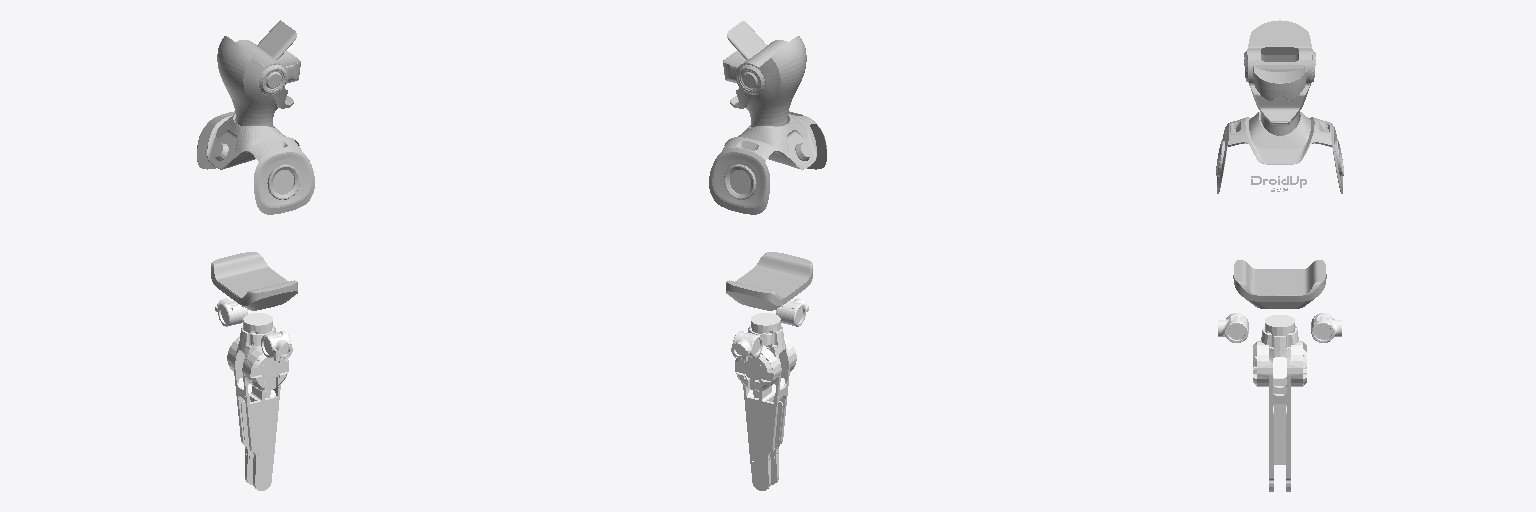
URDF robot description (x2r10):
<?xml version="1.0" encoding="utf-8"?>
<!-- This URDF was automatically created by SolidWorks to URDF Exporter! Originally created by [author] ([email redacted]) 
     Commit Version: 1.6.0-4-g7f85cfe  Build Version: 1.6.7995.38578
     For more information, please see http://wiki.ros.org/sw_urdf_exporter -->
<robot name="x2r10">
  <!-- <mujoco>
    <compiler meshdir="../meshes" discardvisual="false" />
  </mujoco>

  <link name="world"></link>
  <joint name="pelvis_link" type="floating">
    <parent link="world" />
    <child link="pelvis_link" />
  </joint> -->

  <link name="pelvis_link">
    <inertial>
      <origin xyz="0 0 0.001" rpy="0 0 0" />
      <mass value="0.1" />
      <inertia ixx="0.00003053" ixy="0.0000000" ixz="0.00000000" iyy="0.00003053" iyz="0.00000000" izz="0.00000500" />
    </inertial>
    <visual>
      <origin xyz="0 0 0" rpy="0 0 0" />
      <geometry>
        <mesh filename="meshes/pelvis_link.STL" />
      </geometry>
      <material name="">
        <color rgba="1 1 1 1" />
      </material>
    </visual>
    <collision>
      <origin xyz="-0.005 0 0.3" rpy="0 0 0" />
      <geometry>
        <box size="0.25 0.3 0.4" />
      </geometry>
    </collision>
  </link>
  <link name="L_hip_yaw_link">
    <inertial>
      <origin xyz="-0.0005618 0.01983101 0.00885104" rpy="0 0 0" />
      <mass value="0.841" />
      <inertia ixx="0.00175231" ixy="0.00003788" ixz="0.00000418" iyy="0.00059335" iyz="-0.00014762" izz="0.00173830" />
    </inertial>
    <visual>
      <origin xyz="0 0 0" rpy="0 0 0" />
      <geometry>
        <mesh filename="meshes/L_hip_yaw_link.STL" />
      </geometry>
      <material name="">
        <color rgba="1 1 1 1" />
      </material>
    </visual>
  </link>
  <joint name="L_hip_yaw" type="revolute">
    <origin xyz="0 0 0" rpy="0 0 0" />
    <parent link="pelvis_link" />
    <child link="L_hip_yaw_link" />
    <axis xyz="0 0 1" />
    <limit lower="-0.7854" upper="0.7854" effort="30" velocity="10" />
  </joint>
  <link name="L_hip_roll_link">
    <inertial>
      <origin xyz="-0.03247252 0.00017925 -0.07264839" rpy="0 0 0" />
      <mass value="2.667" />
      <inertia ixx="0.007970422" ixy="-0.00001767" ixz="0.00171027" iyy="0.01086223" iyz="-0.00001804" izz="0.00754180" />
    </inertial>
    <visual>
      <origin xyz="0 0 0" rpy="0 0 0" />
      <geometry>
        <mesh filename="meshes/L_hip_roll_link.STL" />
      </geometry>
      <material name="">
        <color rgba="1 1 1 1" />
      </material>
    </visual>
  </link>
  <joint name="L_hip_roll" type="revolute">
    <origin xyz="-0.0095 0.1 0" rpy="0 0 0" />
    <parent link="L_hip_yaw_link" />
    <child link="L_hip_roll_link" />
    <axis xyz="1 0 0" />
    <limit lower="-0.349" upper="0.524" effort="45" velocity="15" />
  </joint>
  <link name="L_hip_pitch_link">
    <inertial>
      <origin xyz="0.00382921 0 -0.18548450" rpy="0 0 0" />
      <mass value="1.664" />
      <inertia ixx="0.01443710" ixy="0.00000000" ixz="-0.00089513" iyy="0.01484426" iyz="-0.00000003" izz="0.00315739" />
    </inertial>
    <visual>
      <origin xyz="0 0 0" rpy="0 0 0" />
      <geometry>
        <mesh filename="meshes/L_hip_pitch_link.STL" />
      </geometry>
      <material name="">
        <color rgba="1 1 1 1" />
      </material>
    </visual>
    <collision>
      <origin xyz="0 0 -0.22" rpy="0 0 0" />
      <geometry>
        <cylinder radius="0.07" length="0.25" />
      </geometry>
    </collision>
  </link>
  <joint name="L_hip_pitch" type="revolute">
    <origin xyz="0.0085 -0.00100000000000001 -0.11" rpy="0 0 0" />
    <parent link="L_hip_roll_link" />
    <child link="L_hip_pitch_link" />
    <axis xyz="0 -1 0" />
    <limit lower="-0.526" upper="2.4434" effort="45" velocity="15" />
  </joint>
  <link name="L_knee_pitch_link">
    <inertial>
      <origin xyz="0.00140265 0 -0.15875986" rpy="0 0 0" />
      <mass value="1.125" />
      <inertia ixx="0.00985892" ixy="0.00000000" ixz="0.00035856" iyy="0.00999859" iyz="-0.00000003" izz="0.00102379" />
    </inertial>
    <visual>
      <origin xyz="0 0 0" rpy="0 0 0" />
      <geometry>
        <mesh filename="meshes/L_knee_pitch_link.STL" />
      </geometry>
      <material name="">
        <color rgba="1 1 1 1" />
      </material>
    </visual>
    <collision>
      <origin xyz="0 0 -0.2" rpy="0 0 0" />
      <geometry>
        <cylinder radius="0.05" length="0.2" />
      </geometry>
    </collision>
  </link>
  <joint name="L_knee_pitch" type="revolute">
    <origin xyz="0 0 -0.35" rpy="0 0 0" />
    <parent link="L_hip_pitch_link" />
    <child link="L_knee_pitch_link" />
    <axis xyz="0 -1 0" />
    <limit lower="-2.3561" upper="0" effort="60" velocity="20" />
  </joint>
  <link name="L_ankle_pitch_link">
    <inertial>
      <origin xyz="0.0393987623680991 -0.000237277713772188 -0.0784143417886232" rpy="0 0 0" />
      <mass value="0.556154115746433" />
      <inertia ixx="0.00032584056406277" ixy="-3.52704729229917E-06" ixz="-3.15470198590693E-05" iyy="0.00243296196329658" iyz="3.92516794179968E-07" izz="0.00260484732439791" />
    </inertial>
    <visual>
      <origin xyz="0 0 0" rpy="0 0 0" />
      <geometry>
        <mesh filename="meshes/L_ankle_pitch_link.STL" />
      </geometry>
      <material name="">
        <color rgba="1 1 1 1" />
      </material>
    </visual>
    <collision>
      <origin xyz="0.015 0 -0.085" rpy="0 0 0" />
      <geometry>
        <box size="0.29 0.09 0.025" />
      </geometry>
    </collision>
  </link>
  <joint name="L_ankle_pitch" type="revolute">
    <origin xyz="0 0 -0.35" rpy="0 0 0" />
    <parent link="L_knee_pitch_link" />
    <child link="L_ankle_pitch_link" />
    <axis xyz="0 -1 0" />
    <limit lower="-1.2217" upper="1.2217" effort="30" velocity="10" />
  </joint>
  <link name="R_hip_yaw_link">
    <inertial>
      <origin xyz="-0.00116447172536395 -0.0404494528952502 1.93208404151757E-18" rpy="0 0 0" />
      <mass value="0.21920189004537" />
      <inertia ixx="0.00059823911672333" ixy="-1.52005393557497E-05" ixz="-6.79522760641359E-21" iyy="0.000157505412929931" iyz="2.64697796016969E-20" izz="0.000555362014045214" />
    </inertial>
    <visual>
      <origin xyz="0 0 0" rpy="0 0 0" />
      <geometry>
        <mesh filename="meshes/R_hip_yaw_link.STL" />
      </geometry>
      <material name="">
        <color rgba="1 1 1 1" />
      </material>
    </visual>
    <!-- <collision>
      <origin xyz="0 0 0" rpy="0 0 0" />
      <geometry>
        <mesh filename="meshes/R_hip_yaw_link.STL" />
      </geometry>
    </collision> -->
  </link>
  <joint name="R_hip_yaw" type="revolute">
    <origin xyz="0 0 0" rpy="0 0 0" />
    <parent link="pelvis_link" />
    <child link="R_hip_yaw_link" />
    <axis xyz="0 0 -1" />
    <limit lower="-0.7854" upper="0.7854" effort="30" velocity="10" />
  </joint>
  <link name="R_hip_roll_link">
    <inertial>
      <origin xyz="-0.03247252 0.00017925 -0.07264839" rpy="0 0 0" />
      <mass value="2.667" />
      <inertia ixx="0.007970422" ixy="-0.00001767" ixz="0.00171027" iyy="0.01086223" iyz="-0.00001804" izz="0.00754180" />
    </inertial>
    <visual>
      <origin xyz="0 0 0" rpy="0 0 0" />
      <geometry>
        <mesh filename="meshes/R_hip_roll_link.STL" />
      </geometry>
      <material name="">
        <color rgba="1 1 1 1" />
      </material>
    </visual>
    <!-- <collision>
      <origin xyz="0 0 0" rpy="0 0 0" />
      <geometry>
        <mesh filename="meshes/R_hip_roll_link.STL" />
      </geometry>
    </collision> -->
  </link>
  <joint name="R_hip_roll" type="revolute">
    <origin xyz="-0.0095 -0.1 0" rpy="0 0 0" />
    <parent link="R_hip_yaw_link" />
    <child link="R_hip_roll_link" />
    <axis xyz="-1 0 0" />
    <limit lower="-0.349" upper="0.524" effort="45" velocity="15" />
  </joint>
  <link name="R_hip_pitch_link">
    <inertial>
      <origin xyz="0.00382921 0 -0.1854850" rpy="0 0 0" />
      <mass value="1.664" />
      <inertia ixx="0.01443710" ixy="-0.00000000" ixz="-0.00089513" iyy="0.01484426" iyz="0.00000003" izz="0.00315739" />
    </inertial>
    <visual>
      <origin xyz="0 0 0" rpy="0 0 0" />
      <geometry>
        <mesh filename="meshes/R_hip_pitch_link.STL" />
      </geometry>
      <material name="">
        <color rgba="1 1 1 1" />
      </material>
    </visual>
    <collision>
      <origin xyz="0 0 -0.22" rpy="0 0 0" />
      <geometry>
        <cylinder radius="0.07" length="0.25" />
      </geometry>
    </collision>
  </link>
  <joint name="R_hip_pitch" type="revolute">
    <origin xyz="0.0085 -0.001 -0.11" rpy="0 0 0" />
    <parent link="R_hip_roll_link" />
    <child link="R_hip_pitch_link" />
    <axis xyz="0 -1 0" />
    <limit lower="-0.526" upper="2.4434" effort="45" velocity="15" />
  </joint>
  <link name="R_knee_pitch_link">
    <inertial>
      <origin xyz="0.00140265 0 -0.15875986" rpy="0 0 0" />
      <mass value="1.125" />
      <inertia ixx="0.00985892" ixy="-0.00000000" ixz="0.00035856" iyy="0.00999859" iyz="0.00000003" izz="0.00102379" />
    </inertial>
    <visual>
      <origin xyz="0 0 0" rpy="0 0 0" />
      <geometry>
        <mesh filename="meshes/R_knee_pitch_link.STL" />
      </geometry>
      <material name="">
        <color rgba="1 1 1 1" />
      </material>
    </visual>
    <collision>
      <origin xyz="0 0 -0.2" rpy="0 0 0" />
      <geometry>
        <cylinder radius="0.05" length="0.2" />
      </geometry>
    </collision>
  </link>
  <joint name="R_knee_pitch" type="revolute">
    <origin xyz="0 0 -0.35" rpy="0 0 0" />
    <parent link="R_hip_pitch_link" />
    <child link="R_knee_pitch_link" />
    <axis xyz="0 -1 0" />
    <limit lower="-2.3561" upper="0" effort="60" velocity="20" />
  </joint>
  <link name="R_ankle_pitch_link">
    <inertial>
      <origin xyz="0.0393998134614837 0.000237080400869755 -0.078414481781949" rpy="0 0 0" />
      <mass value="0.556160945494453" />
      <inertia ixx="0.00032584056406277" ixy="3.52704729229917E-06" ixz="-3.15470198590693E-05" iyy="0.00243296196329658" iyz="-3.92516794179968E-07" izz="0.00260484732439791" />
      <!--      <inertia ixx="0.01" ixy="0" ixz="-2.9E-06" iyy="0.01" iyz="0" izz="0.01"/>-->
    </inertial>
    <visual>
      <origin xyz="0 0 0" rpy="0 0 0" />
      <geometry>
        <mesh filename="meshes/R_ankle_pitch_link.STL" />
      </geometry>
      <material name="">
        <color rgba="1 1 1 1" />
      </material>
    </visual>
    <collision>
      <origin xyz="0.015 0 -0.085" rpy="0 0 0" />
      <geometry>
        <box size="0.29 0.09 0.025" />
      </geometry>
    </collision>
  </link>
  <joint name="R_ankle_pitch" type="revolute">
    <origin xyz="0 0 -0.35" rpy="0 0 0" />
    <parent link="R_knee_pitch_link" />
    <child link="R_ankle_pitch_link" />
    <axis xyz="0 -1 0" />
    <limit lower="-1.2217" upper="1.2217" effort="30" velocity="10" />
  </joint>
  <link name="waist_yaw_link">
    <inertial>
      <origin xyz="-0.00574 0 0.18601" rpy="0 0 0" />
      <mass value="10.129" />
      <inertia ixx="0.16142168" ixy="-0.00000008" ixz="-0.00055992" iyy="0.14544225" iyz="-0.00000008" izz="0.08278995" />
    </inertial>
    <visual>
      <origin xyz="0 0 0" rpy="0 0 0" />
      <geometry>
        <mesh filename="meshes/waist_yaw_link.STL" />
      </geometry>
      <material name="">
        <color rgba="1 1 1 1" />
      </material>
    </visual>
  </link>
  <joint name="waist_yaw" type="fixed">
    <origin xyz="0 0 0.08375" rpy="0 0 0" />
    <parent link="pelvis_link" />
    <child link="waist_yaw_link" />
    <axis xyz="0 0 1" />
    <limit lower="-1.047" upper="1.047" effort="83.5" velocity="43" />
  </joint>
  <link name="torso_link">
    <inertial>
      <origin xyz="0.07801 0.00014123 0.21228" rpy="0 0 0" />
      <mass value="0.0051207" />
      <inertia ixx="1.2629E-06" ixy="-5.8501E-11" ixz="4.3873E-07" iyy="1.0993E-06" iyz="5.4154E-10" izz="9.4943E-07" />
    </inertial>
    <visual>
      <origin xyz="0 0 0" rpy="0 0 0" />
      <geometry>
        <mesh filename="meshes/torso_link.STL" />
      </geometry>
      <material name="">
        <color rgba="0.823529411764706 0.823529411764706 0.823529411764706 1" />
      </material>
    </visual>
  </link>
  <joint name="torso" type="fixed">
    <origin xyz="0 0 0.03675" rpy="0 0 0" />
    <parent link="waist_yaw_link" />
    <child link="torso_link" />
    <axis xyz="0 0 0" />
  </joint>
  <link name="logo_link">
    <inertial>
      <origin xyz="0.0780100780349841 0.000141230703059829 0.212276372633898" rpy="0 0 0" />
      <mass value="0.00512067007990884" />
      <inertia ixx="1.26286978002528E-06" ixy="-5.85012656774689E-11" ixz="4.38730918441945E-07" iyy="1.09931895773858E-06" iyz="5.41542411728218E-10" izz="9.49430143120174E-07" />
    </inertial>
    <visual>
      <origin xyz="0 0 0" rpy="0 0 0" />
      <geometry>
        <mesh filename="meshes/logo_link.STL" />
      </geometry>
      <material name="">
        <color rgba="1 0 0 1" />
      </material>
    </visual>
  </link>
  <joint name="logo" type="fixed">
    <origin xyz="0 0 0" rpy="0 0 0" />
    <parent link="torso_link" />
    <child link="logo_link" />
    <axis xyz="0 0 0" />
  </joint>
  <link name="Head_yaw_link">
    <inertial>
      <origin xyz="0.01547561 0 0.16472894" rpy="0 0 0" />
      <mass value="1.67" />
      <inertia ixx="0.00882503" ixy="0.00000000" ixz="0.00010108" iyy="0.01008134" iyz="0.00000000" izz="0.00524807" />
    </inertial>
    <visual>
      <origin xyz="0 0 0" rpy="0 0 0" />
      <geometry>
        <mesh filename="meshes/Head_yaw_link.STL" />
      </geometry>
      <material name="">
        <color rgba="1 1 1 1" />
      </material>
    </visual>
    <collision>
      <origin xyz="0.03 0 0.17" rpy="0 0 0" />
      <geometry>
        <sphere radius="0.12" />
      </geometry>
    </collision>
  </link>
  <joint name="head" type="fixed">
    <origin xyz="0 0 0.3645" rpy="0 0 0" />
    <parent link="torso_link" />
    <child link="Head_yaw_link" />
    <axis xyz="0 0 1" />
    <limit lower="-1.571" upper="1.571" effort="50" velocity="5" />
  </joint>
  <link name="L_shoulder_pitch_link">
    <inertial>
      <origin xyz="0 0.02870482 0.00006450" rpy="0 0 0" />
      <mass value="0.08" />
      <inertia ixx="0.00004183" ixy="0.00000000" ixz="0.00000000" iyy="0.00006966" iyz="0.00000004" izz="0.00009307" />
    </inertial>
    <visual>
      <origin xyz="0 0 0" rpy="0 0 0" />
      <geometry>
        <mesh filename="meshes/L_shoulder_pitch_link.STL" />
      </geometry>
      <material name="">
        <color rgba="1 1 1 1" />
      </material>
    </visual>
  </link>
  <joint name="L_shoulder_pitch" type="fixed">
    <origin xyz="-0.01 0.14477 0.31534" rpy="0.17453 0 0" />
    <parent link="torso_link" />
    <child link="L_shoulder_pitch_link" />
    <axis xyz="0 -1 0" />
    <limit lower="-1.57" upper="3.14" effort="66" velocity="30" />
  </joint>
  <link name="L_shoulder_roll_link">
    <inertial>
      <origin xyz="-0.00014962 0.00021332 -0.04253615" rpy="0 0 0" />
      <mass value="0.8" />
      <inertia ixx="0.00053581" ixy="0.00000000" ixz="-0.00000191" iyy="0.00055551" iyz="-0.00000262" izz="0.00012232" />
    </inertial>
    <visual>
      <origin xyz="0 0 0" rpy="0 0 0" />
      <geometry>
        <mesh filename="meshes/L_shoulder_roll_link.STL" />
      </geometry>
      <material name="">
        <color rgba="1 1 1 1" />
      </material>
    </visual>
    <collision>
      <origin xyz="0 0 0" rpy="0 1.57 0" />
      <geometry>
        <cylinder radius="0.04" length="0.08" />
      </geometry>
    </collision>
  </link>
  <joint name="L_shoulder_roll" type="fixed">
    <origin xyz="0 0.061 0" rpy="-0.17453 0 0" />
    <parent link="L_shoulder_pitch_link" />
    <child link="L_shoulder_roll_link" />
    <axis xyz="1 0 0" />
    <limit lower="-0.35" upper="1.57" effort="66" velocity="30" />
  </joint>
  <link name="L_shoulder_yaw_link">
    <inertial>
      <origin xyz="0.0049554 -0.00024132 -0.14234" rpy="0 0 0" />
      <mass value="0.5" />
      <inertia ixx="0.00062700" ixy="-0.00000023" ixz="-0.00003710" iyy="0.00060922" iyz="0.00000138" izz="0.00009956" />
    </inertial>
    <visual>
      <origin xyz="0 0 0" rpy="0 0 0" />
      <geometry>
        <mesh filename="meshes/L_shoulder_yaw_link.STL" />
      </geometry>
      <material name="">
        <color rgba="1 1 1 1" />
      </material>
    </visual>
    <collision>
      <origin xyz="0.01 0 -0.17" rpy="1.57 0 0" />
      <geometry>
        <cylinder radius="0.04" length="0.08" />
      </geometry>
    </collision>
  </link>
  <joint name="L_shoulder_yaw" type="fixed">
    <origin xyz="0 0 -0.112" rpy="0 0 0" />
    <parent link="L_shoulder_roll_link" />
    <child link="L_shoulder_yaw_link" />
    <axis xyz="0 0 1" />
    <limit lower="-2.618" upper="2.618" effort="45" velocity="30" />
  </joint>
  <link name="L_elbow_pitch_link">
    <inertial>
      <origin xyz="-0.0123066 0 -0.21266023" rpy="0 0 0" />
      <mass value="0.1" />
      <inertia ixx="0.00247994" ixy="0.00000000" ixz="0.00000793" iyy="0.00246631" iyz="0.00000001" izz="0.00012575" />
    </inertial>
    <visual>
      <origin xyz="0 0 0" rpy="0 0 0" />
      <geometry>
        <mesh filename="meshes/L_elbow_pitch_link.STL" />
      </geometry>
      <material name="">
        <color rgba="1 1 1 1" />
      </material>
    </visual>
    <collision>
      <origin xyz="-0.013 0 -0.28" rpy="0 0 0" />
      <geometry>
        <sphere radius="0.038" />
      </geometry>
    </collision>
  </link>
  <joint name="L_elbow_pitch" type="fixed">
    <origin xyz="0.01 0 -0.173" rpy="0 -1.57 0" />
    <parent link="L_shoulder_yaw_link" />
    <child link="L_elbow_pitch_link" />
    <axis xyz="0 -1 0" />
    <limit lower="0" upper="2.443" effort="83.5" velocity="43" />
  </joint>
  <link name="R_shoulder_pitch_link">
    <inertial>
      <origin xyz="0 -0.02870482 0.00006450" rpy="0 0 0" />
      <mass value="0.08" />
      <inertia ixx="0.00004183" ixy="0.00000000" ixz="0.00000000" iyy="0.00006966" iyz="-0.00000004" izz="0.00009307" />
    </inertial>
    <visual>
      <origin xyz="0 0 0" rpy="0 0 0" />
      <geometry>
        <mesh filename="meshes/R_shoulder_pitch_link.STL" />
      </geometry>
      <material name="">
        <color rgba="1 1 1 1" />
      </material>
    </visual>
  </link>
  <joint name="R_shoulder_pitch" type="fixed">
    <origin xyz="-0.01 -0.14477 0.31534" rpy="-0.17453 0 0" />
    <parent link="torso_link" />
    <child link="R_shoulder_pitch_link" />
    <axis xyz="0 -1 0" />
    <limit lower="-1.57" upper="3.14" effort="66" velocity="30" />
  </joint>
  <link name="R_shoulder_roll_link">
    <inertial>
      <origin xyz="0.00014963 -0.00021332 -0.04253615" rpy="0 0 0" />
      <mass value="0.8" />
      <inertia ixx="0.00053581" ixy="0.00000000" ixz="0.00000191" iyy="0.00055551" iyz="0.00000262" izz="0.00012232" />
    </inertial>
    <visual>
      <origin xyz="0 0 0" rpy="0 0 0" />
      <geometry>
        <mesh filename="meshes/R_shoulder_roll_link.STL" />
      </geometry>
      <material name="">
        <color rgba="1 1 1 1" />
      </material>
    </visual>
    <collision>
      <origin xyz="0 0 0" rpy="0 1.57 0" />
      <geometry>
        <cylinder radius="0.04" length="0.08" />
      </geometry>
    </collision>
  </link>
  <joint name="R_shoulder_roll" type="fixed">
    <origin xyz="0 -0.061 0" rpy="0.17453 0 0" />
    <parent link="R_shoulder_pitch_link" />
    <child link="R_shoulder_roll_link" />
    <axis xyz="-1 0 0" />
    <limit lower="-0.35" upper="1.57" effort="66" velocity="30" />
  </joint>
  <link name="R_shoulder_yaw_link">
    <inertial>
      <origin xyz="0.00499440 -0.00024129 -0.14233699" rpy="0 0 0" />
      <mass value="0.5" />
      <inertia ixx="0.00062700" ixy="-0.00000023" ixz="-0.00003710" iyy="0.00060922" iyz="0.00000138" izz="0.00009956" />
    </inertial>
    <visual>
      <origin xyz="0 0 0" rpy="0 0 0" />
      <geometry>
        <mesh filename="meshes/R_shoulder_yaw_link.STL" />
      </geometry>
      <material name="">
        <color rgba="1 1 1 1" />
      </material>
    </visual>
    <collision>
      <origin xyz="0.01 0 -0.17" rpy="1.57 0 0" />
      <geometry>
        <cylinder radius="0.04" length="0.08" />
      </geometry>
    </collision>
  </link>
  <joint name="R_shoulder_yaw" type="fixed">
    <origin xyz="-3.8964E-05 0 -0.112" rpy="0 0 0" />
    <parent link="R_shoulder_roll_link" />
    <child link="R_shoulder_yaw_link" />
    <axis xyz="0 0 -1" />
    <limit lower="-2.618" upper="2.618" effort="45" velocity="30" />
  </joint>
  <link name="R_elbow_pitch_link">
    <inertial>
      <origin xyz="-0.0123066 0 -0.21266023" rpy="0 0 0" />
      <mass value="0.1" />
      <inertia ixx="0.00247994" ixy="0.00000000" ixz="0.00000793" iyy="0.00246631" iyz="0.00000001" izz="0.00012575" />
    </inertial>
    <visual>
      <origin xyz="0 0 0" rpy="0 0 0" />
      <geometry>
        <mesh filename="meshes/R_elbow_pitch_link.STL" />
      </geometry>
      <material name="">
        <color rgba="1 1 1 1" />
      </material>
    </visual>
    <collision>
      <origin xyz="-0.013 0 -0.28" rpy="0 0 0" />
      <geometry>
        <sphere radius="0.038" />
      </geometry>
    </collision>
  </link>
  <joint name="R_elbow_pitch" type="fixed">
    <origin xyz="0.010039 0 -0.173" rpy="0 -1.57 0" />
    <parent link="R_shoulder_yaw_link" />
    <child link="R_elbow_pitch_link" />
    <axis xyz="0 -1 0" />
    <limit lower="0" upper="2.443" effort="83.5" velocity="43" />
  </joint>
</robot>

--- What the picture shows (computed from the rendered views, not written in the file) ---
Views: 3 orthographic renders of the robot side by side, from view 1: azimuth 30°, elevation 25°; view 2: azimuth 150°, elevation 25°; view 3: azimuth 270°, elevation 25°.
Model x2r10 with 23 links and 22 joints (10 revolute, 12 fixed), rooted at pelvis_link, posed every joint at zero.
Links seen in each view (by area): view 1: torso_link, R_hip_yaw_link, R_hip_roll_link, L_hip_roll_link; view 2: torso_link, R_hip_yaw_link, L_hip_roll_link, R_hip_roll_link; view 3: torso_link, R_hip_yaw_link, L_hip_roll_link, R_hip_roll_link.
Boxes of the visible links, box(x1,y1,x2,y2) form: torso_link: box(197, 20, 314, 310); R_hip_yaw_link: box(227, 313, 288, 490); R_hip_roll_link: box(261, 331, 292, 358); L_hip_roll_link: box(215, 298, 247, 326); torso_link: box(709, 21, 826, 310); R_hip_yaw_link: box(735, 313, 796, 490); L_hip_roll_link: box(731, 331, 762, 358); R_hip_roll_link: box(776, 298, 808, 326); torso_link: box(1216, 20, 1343, 308); R_hip_yaw_link: box(1253, 315, 1306, 491); L_hip_roll_link: box(1311, 313, 1341, 342); R_hip_roll_link: box(1218, 313, 1248, 342).
Bounding box of the posed robot: 0.2341 × 0.2962 × 1.17 m (x, y, z).
4 mesh visuals loaded from 23 distinct referenced files (4 binary STL); not drawn: 19 (reference not matched to a file when rendering).